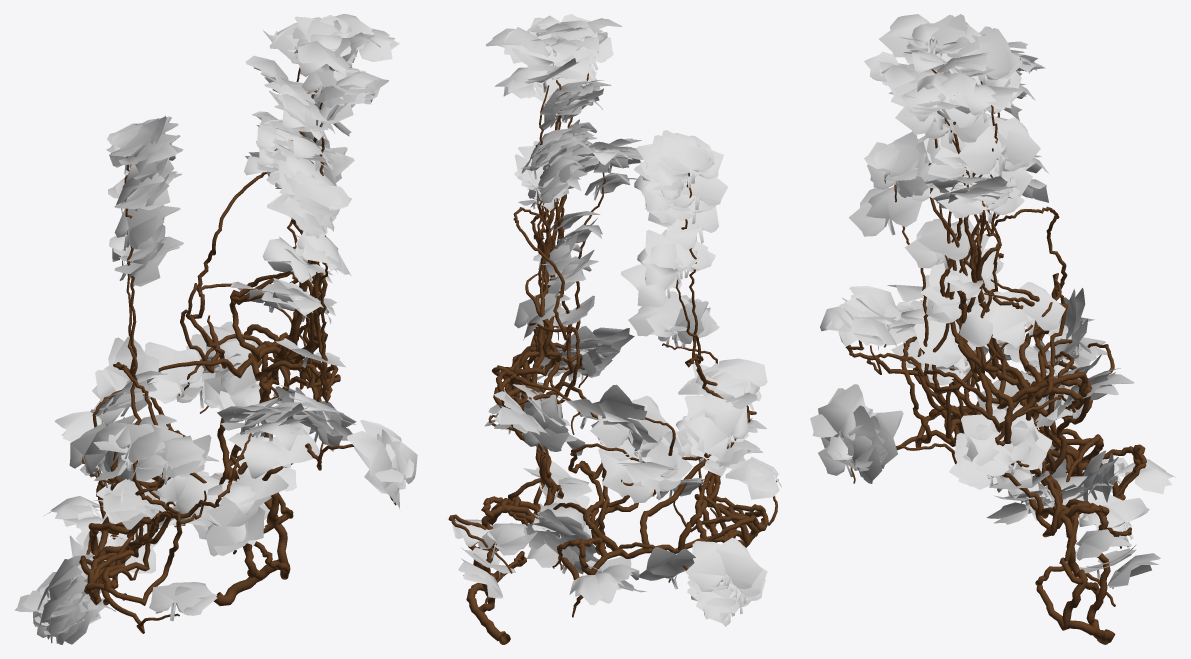
File: garden_pillar_ivy_03.fbx
3 views of the same model, side by side, from view 1: azimuth 30°, elevation 25°; view 2: azimuth 150°, elevation 25°; view 3: azimuth 270°, elevation 25° (orthographic). The views are drawn at different scales.
Parts seen in each view (by area): view 1: IVY_Curve.003; view 2: IVY_Curve.003; view 3: IVY_Curve.003.
Part boxes in pixels (x1,y1,x2,y2): IVY_Curve.003: (14, 14, 417, 644); IVY_Curve.003: (448, 14, 781, 644); IVY_Curve.003: (810, 14, 1175, 644).
Size of the model in its own units: 3.41 by 6.34 by 3.36.
